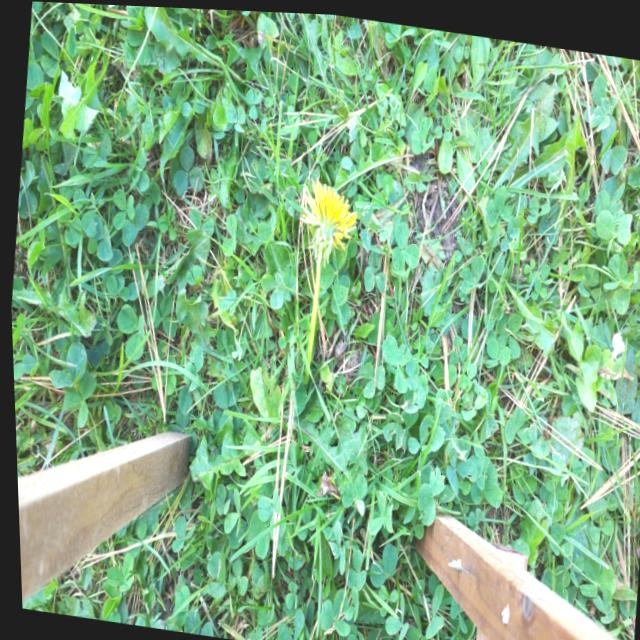base: (290, 352, 318, 393)
